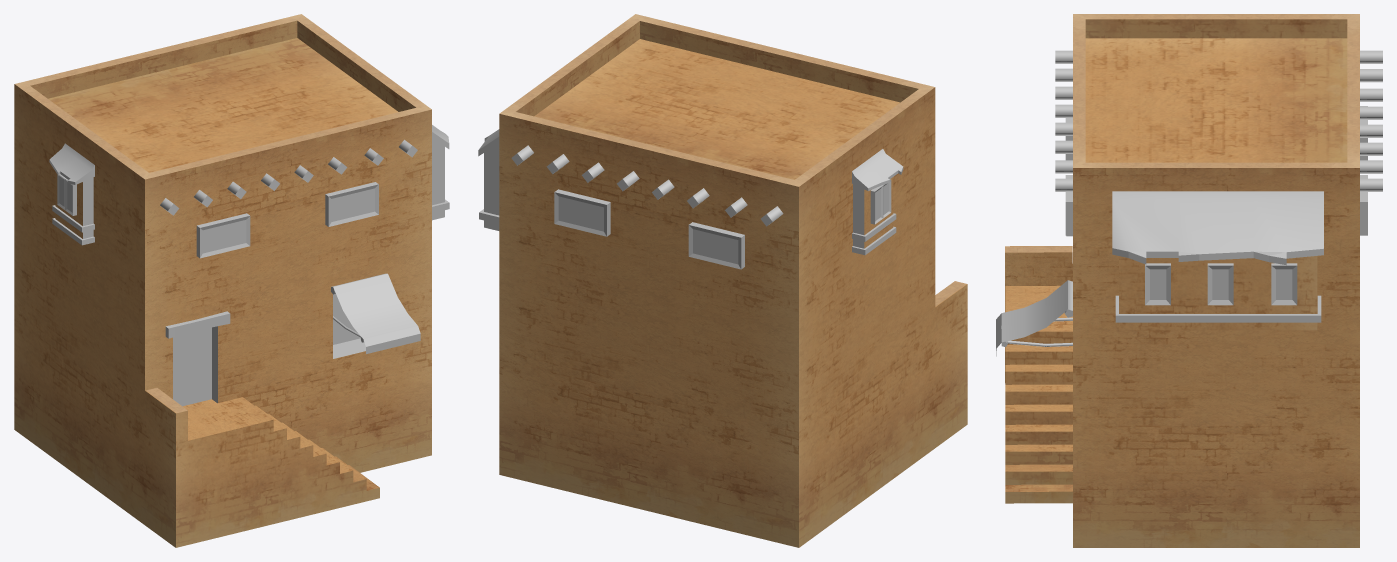
File: House_03.fbx
3 views of the same model, side by side, from view 1: azimuth 30°, elevation 25°; view 2: azimuth 150°, elevation 25°; view 3: azimuth 270°, elevation 25° (orthographic). The views are drawn at different scales.
Visible parts, largest first — view 1: House_03; view 2: House_03; view 3: House_03.
Part boxes in pixels (x1=…): House_03: x1=14, y1=14, x2=449, y2=547; House_03: x1=478, y1=14, x2=967, y2=547; House_03: x1=996, y1=14, x2=1382, y2=547.
Bounding box in the file's own units: 176 × 163 × 150.
